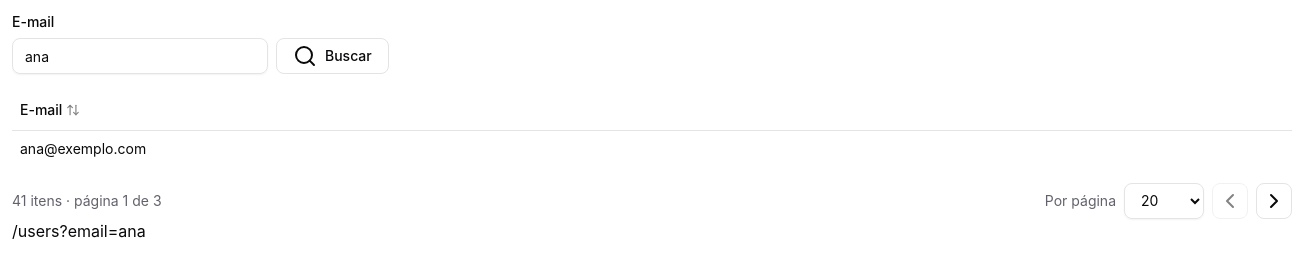
Scenario: DataTable › sincroniza busca, página e ordenação com a URL e consulta a API com elas
Check: the text "ana@exemplo.com" is shown, box x1=12 y1=130 x2=1292 y2=166
Check: the field labelled "E-mail" holds "ana", box x1=12 y1=38 x2=268 y2=74
Click the button named "Próxima página". click: (1274, 200)
box: x1=1256 y1=182 x2=1292 y2=218
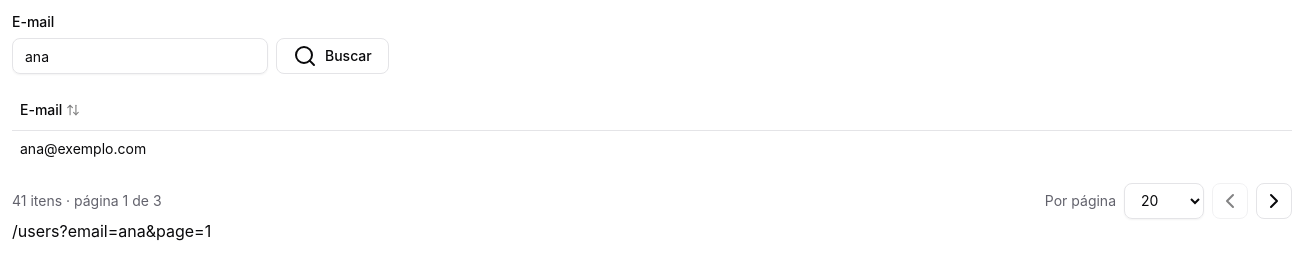
Check: the text named "url" shows "page=1", box x1=12 y1=220 x2=211 y2=240
Replace the text in the field labelled "E-mail" with "bruno". click: (140, 56)
box: x1=12 y1=38 x2=268 y2=74
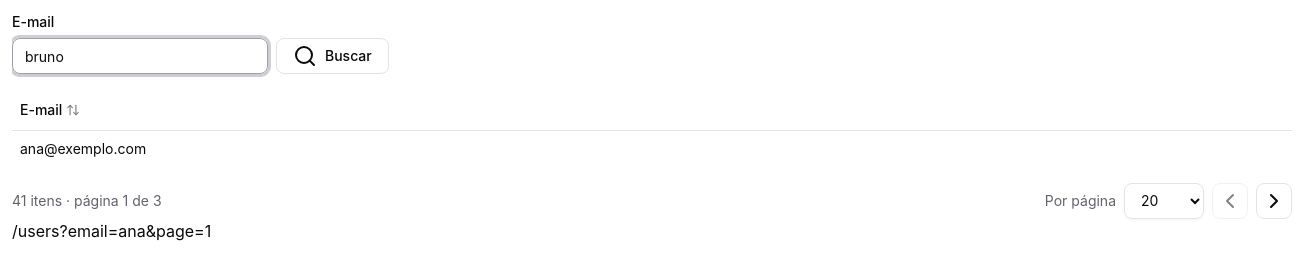
Click the button "Buscar". click: (332, 56)
box: x1=276 y1=38 x2=389 y2=74
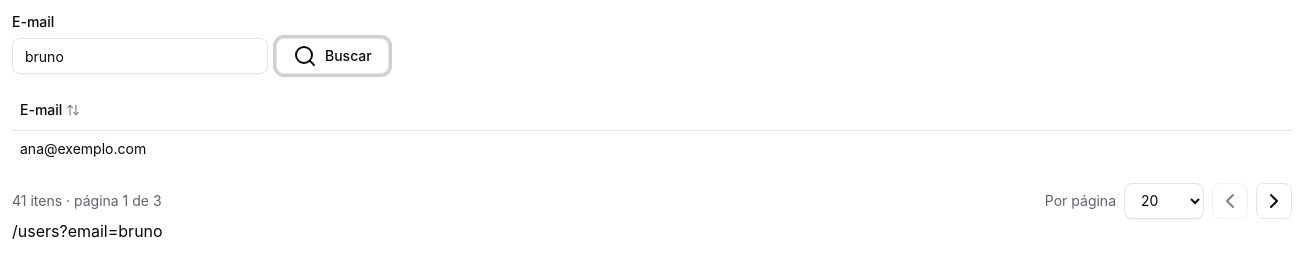
Check: the text named "url" reads "/users?email=bruno", box x1=12 y1=220 x2=163 y2=240
Check: the text named "url" no longer shows "page=", box x1=12 y1=220 x2=163 y2=240
Click the button "E-mail". click: (50, 110)
box: x1=20 y1=100 x2=80 y2=120
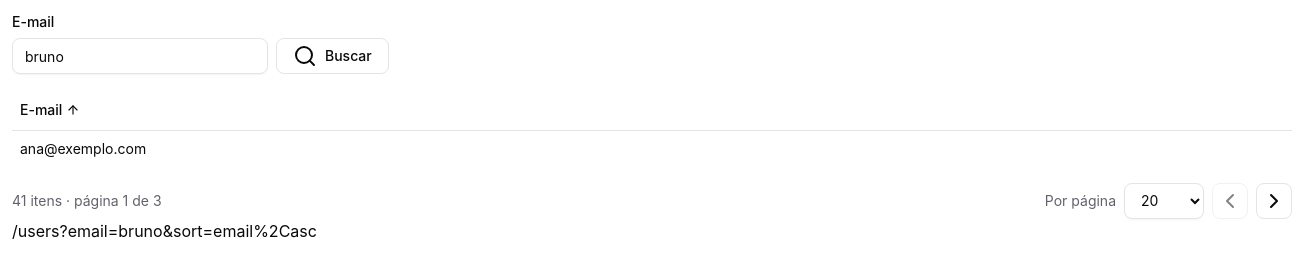
Check: the text named "url" shows "sort=email%2Casc", box x1=12 y1=220 x2=317 y2=240
